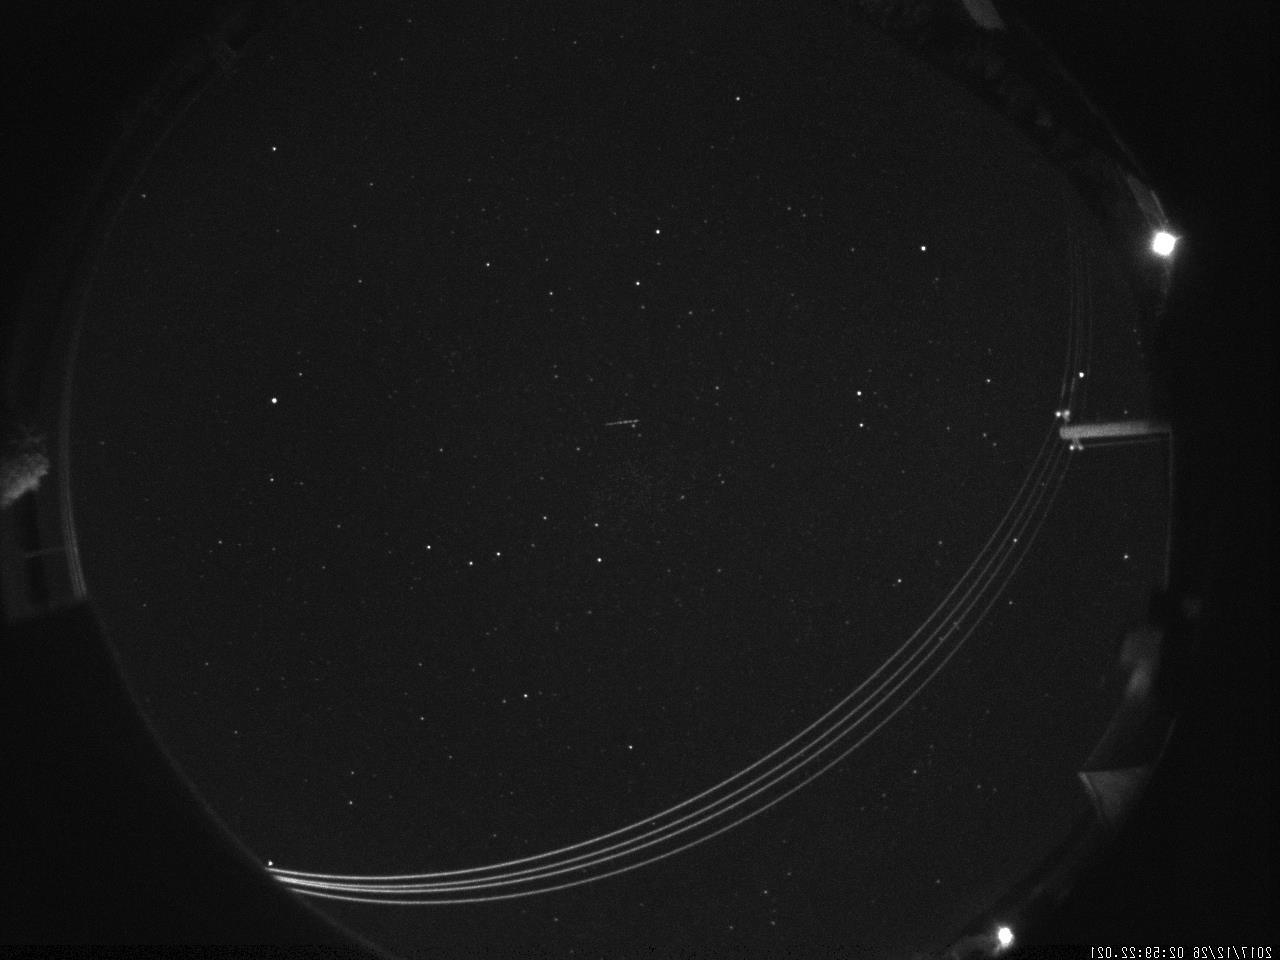meteor: (580, 405, 665, 444)
